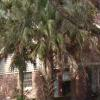Palm tree: (4, 1, 76, 89)
